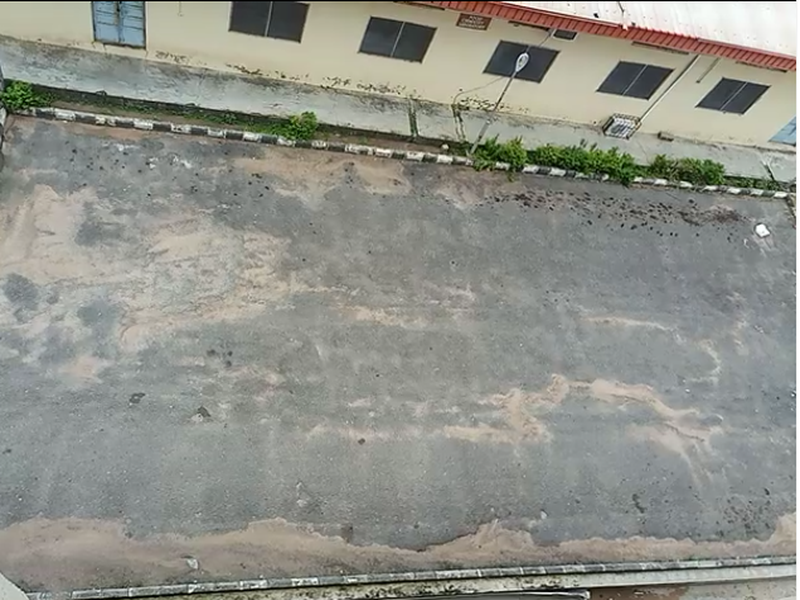five: (701, 165, 800, 334)
four: (537, 147, 635, 318)
one: (1, 82, 109, 290)
three: (365, 137, 484, 309)
two: (196, 109, 317, 297)
